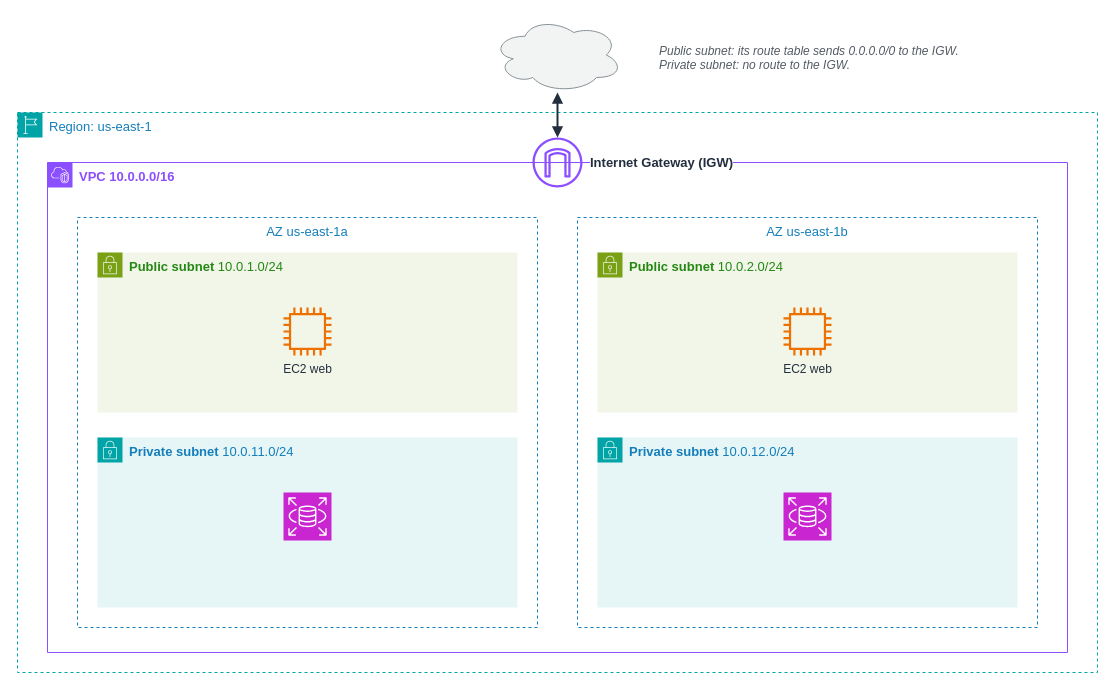
Some shapes in this 1115 by 690 pixel diagram are drawn without their labels. Each missing label, with the centre of its shape:
Internet: the point at 557,54
RDS primary: the point at 307,516
RDS standby: the point at 807,516
